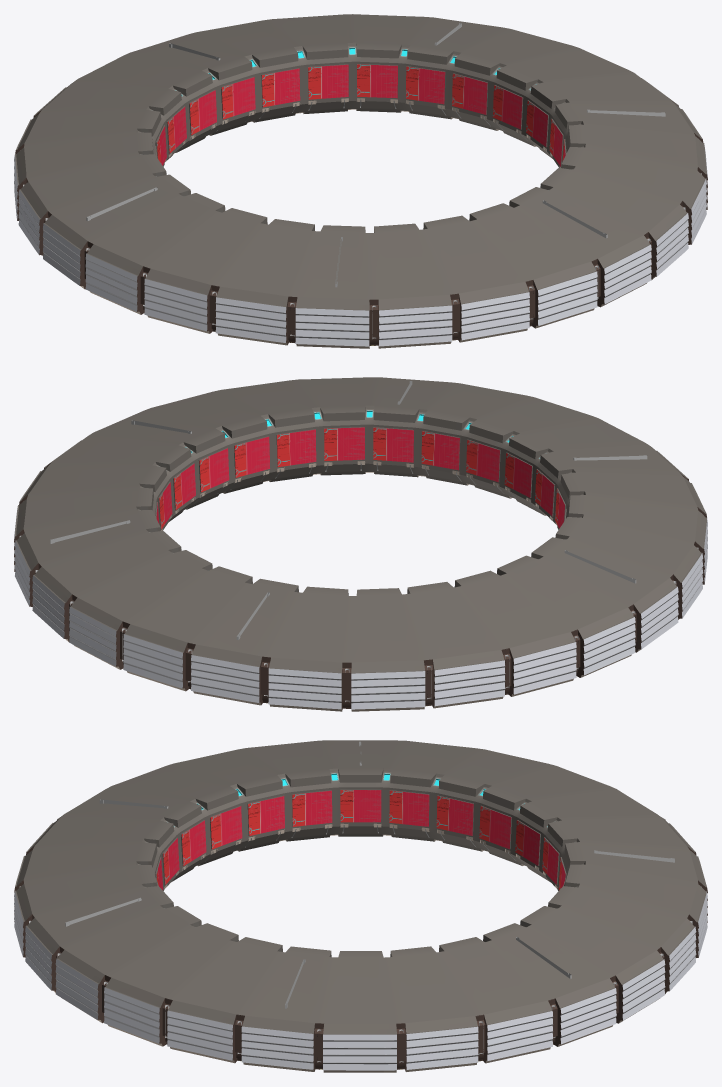
File: Tower02.fbx
3 views of the same model, one above another, from view 1: azimuth 30°, elevation 25°; view 2: azimuth 150°, elevation 25°; view 3: azimuth 270°, elevation 25° (orthographic).
Visible parts, largest first — view 1: polySurface88, polySurface116; view 2: polySurface88, polySurface116; view 3: polySurface88, polySurface116.
Part boxes in pixels (x1,y1,x2,y2): polySurface88: [14, 14, 707, 348]; polySurface116: [157, 64, 565, 345]; polySurface88: [14, 377, 707, 711]; polySurface116: [156, 427, 564, 706]; polySurface88: [14, 740, 707, 1072]; polySurface116: [156, 790, 565, 1069].
Bounding box in the file's own units: 84.59 × 9 × 85.02.
2 materials, 2 textured.
